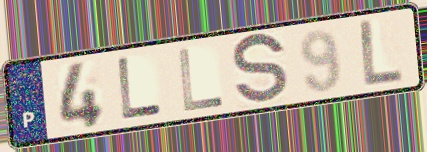4: (56, 59, 107, 130)
9: (298, 28, 344, 95)
L: (175, 47, 226, 114), (357, 17, 405, 88), (115, 55, 165, 122)
S: (230, 30, 291, 109)
